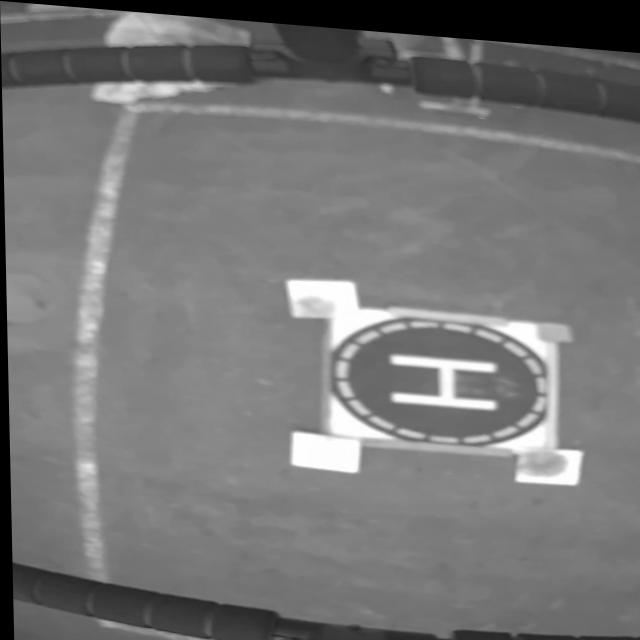Helipad: (386, 347, 495, 402)
